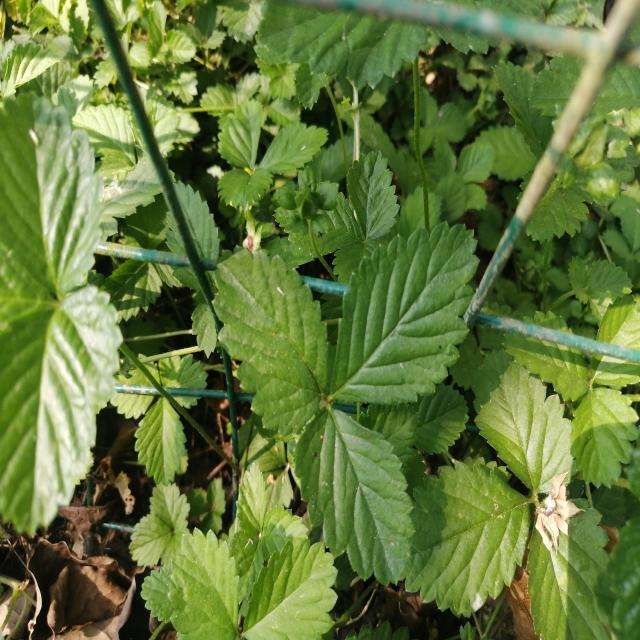Mock_strawberry: (194, 205, 467, 551)
